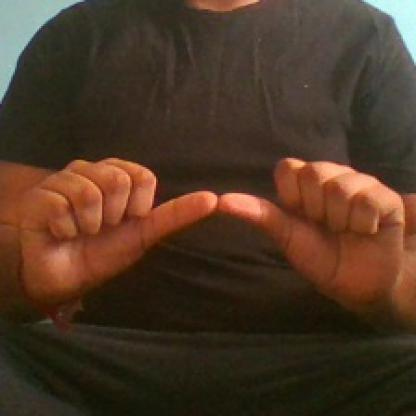A: (15, 147, 403, 311)
